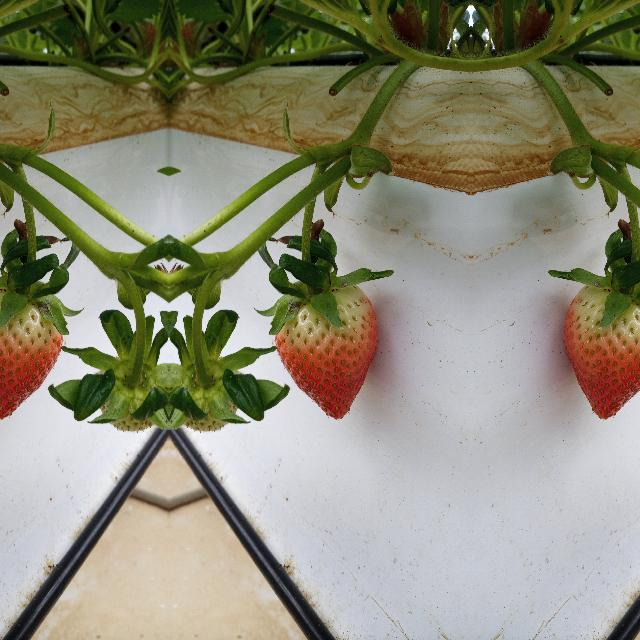Health_100: (274, 284, 378, 420), (562, 284, 640, 420), (0, 284, 62, 420)
Health_25: (100, 348, 160, 434), (177, 348, 236, 434)
